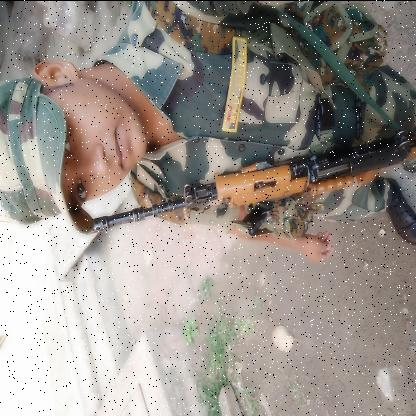rifle: (84, 125, 416, 236)
